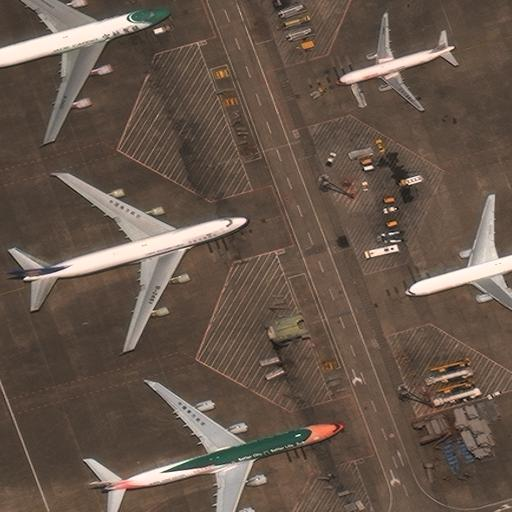Large Civil Transport: (24, 171, 245, 350), (104, 380, 346, 511), (0, 0, 170, 142), (405, 193, 512, 322)
Medium Civil Transport: (334, 13, 456, 110)
